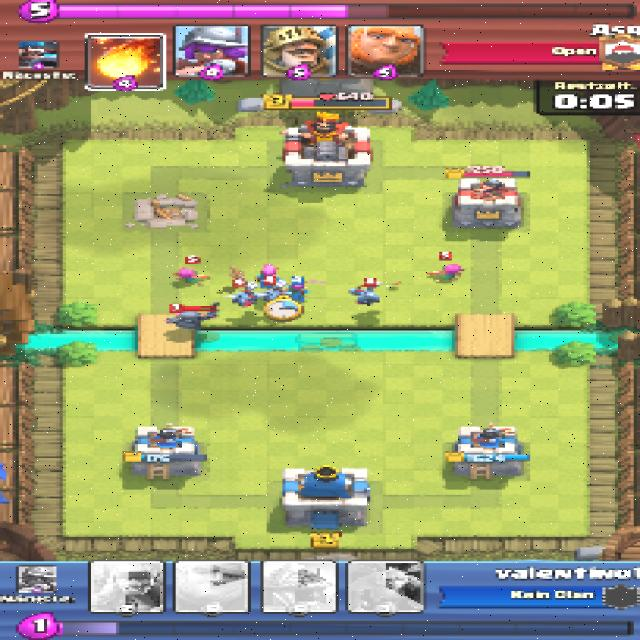Enemy-Archer: (428, 262, 465, 280), (174, 268, 208, 286)
Enemy-MiniPEKKA: (171, 307, 220, 330)
Enemy-Minion: (350, 284, 380, 305), (226, 289, 262, 305), (259, 284, 283, 303)
Player-Archer: (286, 282, 308, 301)
